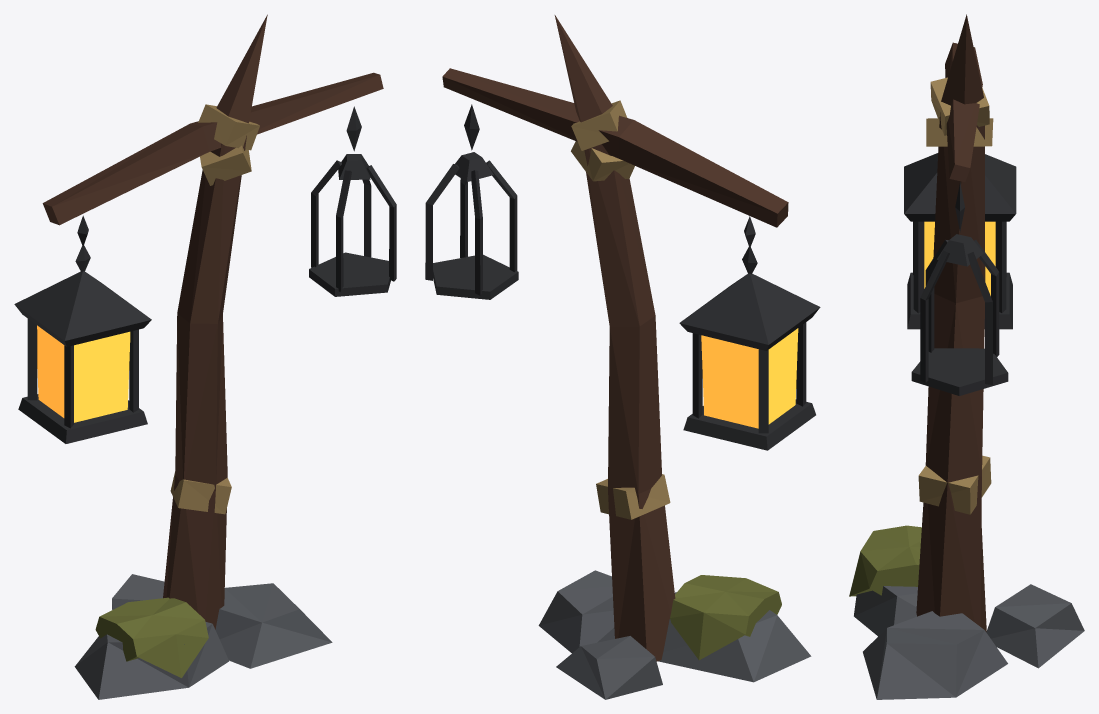
The model's file is FK_LanternMarker.fbx.
3 views of the same model, side by side, from view 1: azimuth 30°, elevation 25°; view 2: azimuth 150°, elevation 25°; view 3: azimuth 270°, elevation 25° (orthographic). The views are drawn at different scales.
Visible parts, largest first — view 1: FK_LanternMarker_Wood, FK_LanternMarker_Iron, FK_LanternMarker_Stones, FK_LanternMarker_Glass, FK_LanternMarker_Moss, FK_LanternMarker_Rope; view 2: FK_LanternMarker_Wood, FK_LanternMarker_Iron, FK_LanternMarker_Stones, FK_LanternMarker_Glass, FK_LanternMarker_Moss, FK_LanternMarker_Rope; view 3: FK_LanternMarker_Wood, FK_LanternMarker_Stones, FK_LanternMarker_Iron, FK_LanternMarker_Rope, FK_LanternMarker_Moss, FK_LanternMarker_Glass.
Part boxes in pixels (box(x1,y1,x2,y2)): FK_LanternMarker_Wood: box(42, 14, 383, 629); FK_LanternMarker_Iron: box(14, 106, 396, 443); FK_LanternMarker_Stones: box(74, 574, 332, 699); FK_LanternMarker_Glass: box(37, 325, 130, 422); FK_LanternMarker_Moss: box(95, 597, 208, 677); FK_LanternMarker_Rope: box(170, 104, 259, 514); FK_LanternMarker_Wood: box(442, 15, 788, 661); FK_LanternMarker_Iron: box(425, 104, 820, 450); FK_LanternMarker_Stones: box(538, 570, 811, 699); FK_LanternMarker_Glass: box(701, 328, 798, 428); FK_LanternMarker_Moss: box(670, 575, 781, 660); FK_LanternMarker_Rope: box(571, 100, 670, 519); FK_LanternMarker_Wood: box(916, 14, 986, 631); FK_LanternMarker_Stones: box(854, 569, 1084, 699); FK_LanternMarker_Iron: box(904, 153, 1016, 395); FK_LanternMarker_Rope: box(918, 77, 993, 514); FK_LanternMarker_Moss: box(849, 525, 921, 596); FK_LanternMarker_Glass: box(924, 221, 995, 295).
Bounding box in the file's own units: 5.52 × 9 × 2.86.
